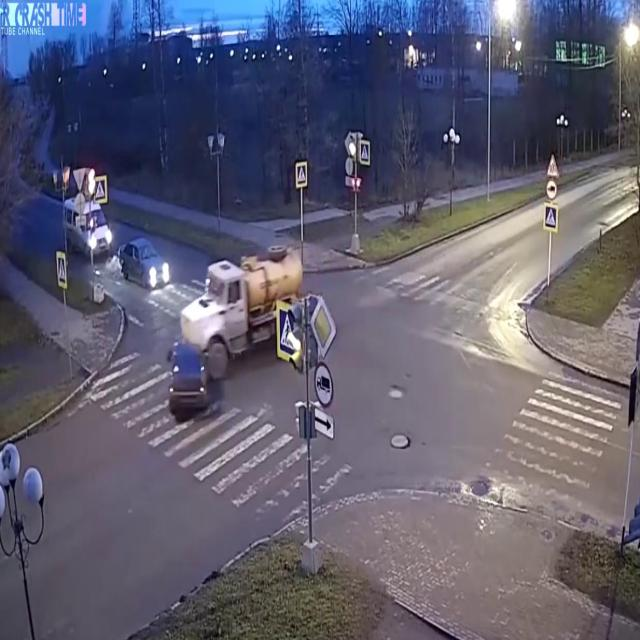accident: (157, 227, 331, 431)
